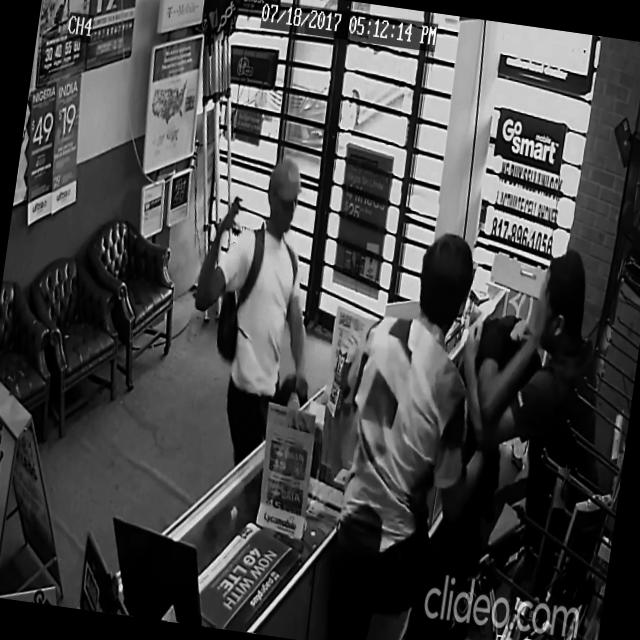gun: (228, 192, 242, 233)
person: (304, 219, 519, 640), (421, 236, 640, 640), (429, 305, 558, 546)
person with a gun: (172, 147, 342, 473)
